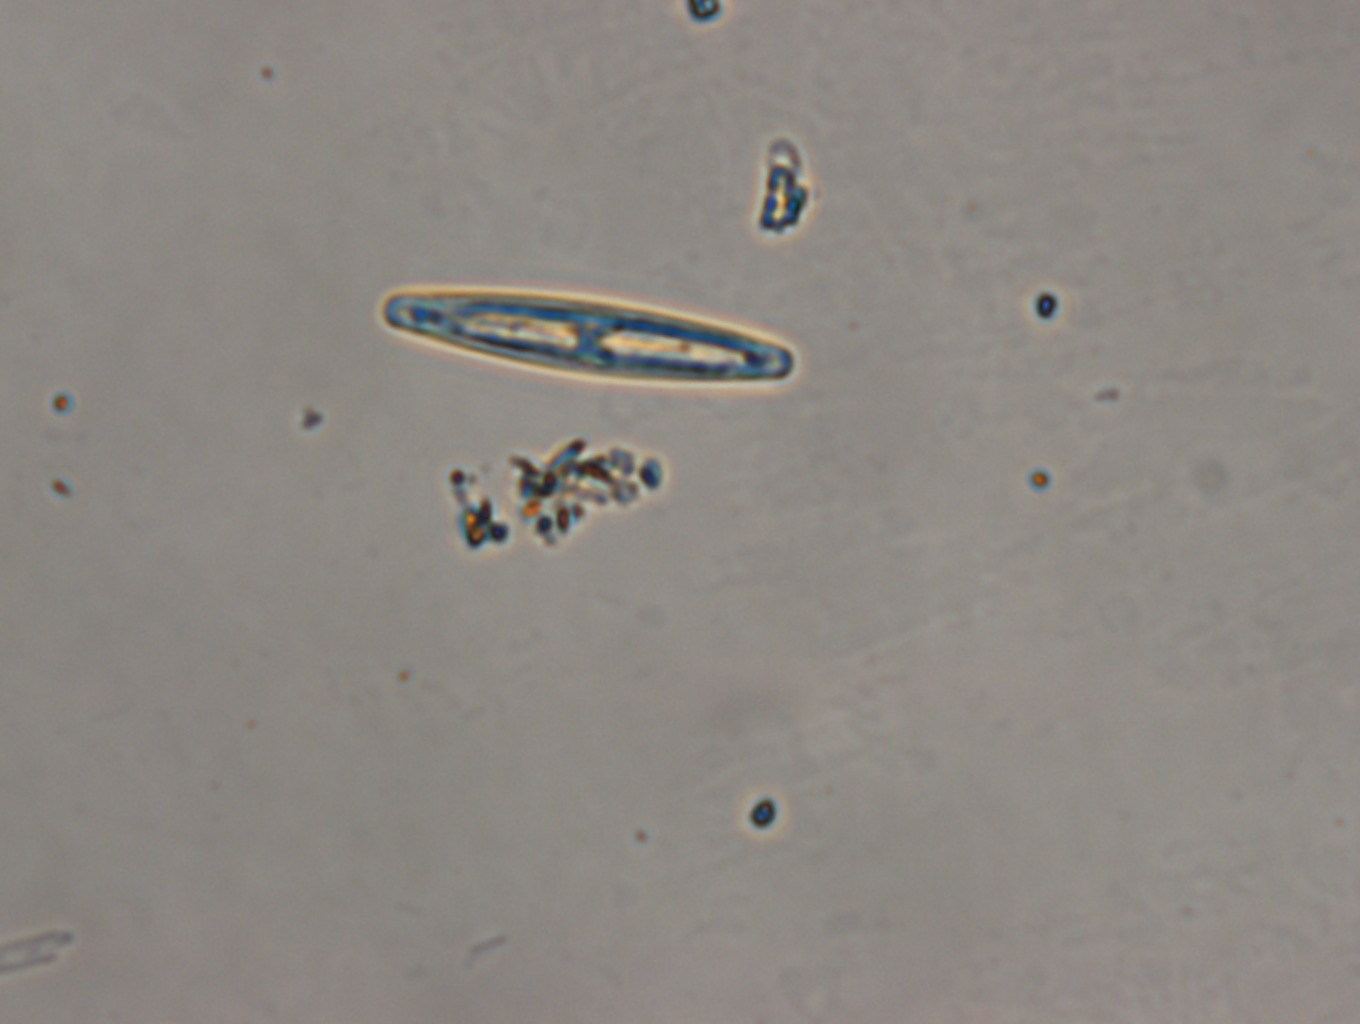navicula: (381, 289, 797, 385)
